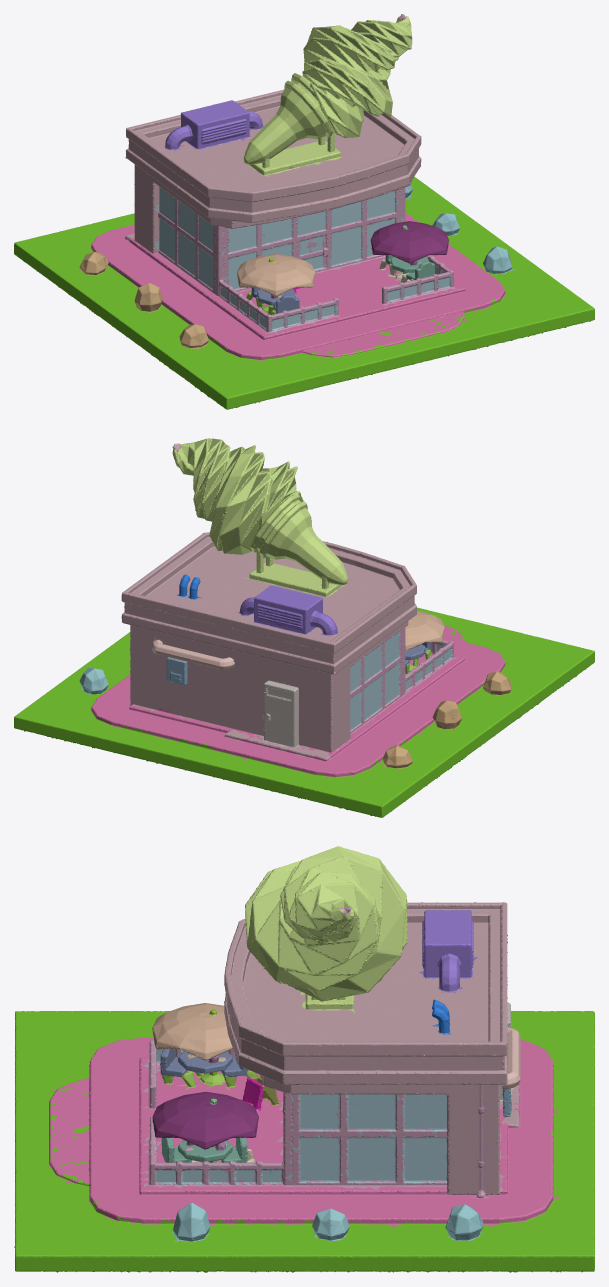
3 renders of one model, top to bottom at view 1: azimuth 30°, elevation 25°; view 2: azimuth 150°, elevation 25°; view 3: azimuth 270°, elevation 25°, orthographic. The views are drawn at different scales.
Visible parts, largest first — view 1: world; view 2: world; view 3: world.
Boxes of the visible parts, x1,y1,x2,y2 form: world: [14, 14, 594, 409]; world: [14, 438, 594, 817]; world: [14, 846, 594, 1272].
Size of the model in its own units: 1.91 by 1.2 by 1.91.
